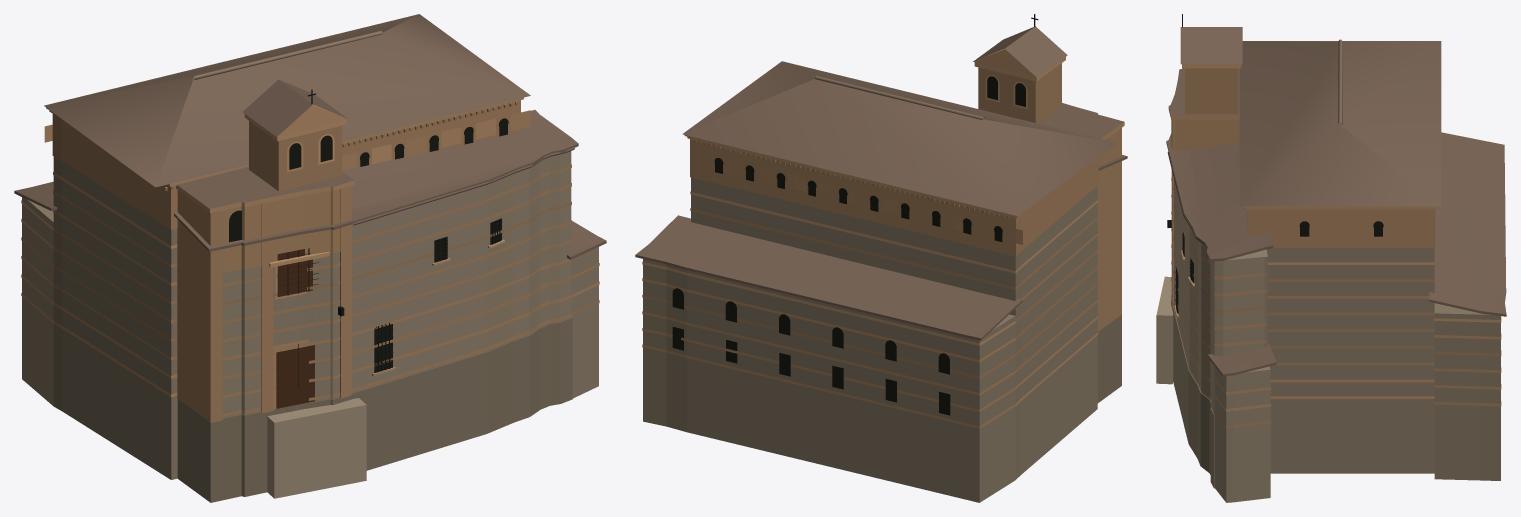
3 renders of one model, left to right at view 1: azimuth 30°, elevation 25°; view 2: azimuth 150°, elevation 25°; view 3: azimuth 270°, elevation 25°, orthographic. The views are drawn at different scales.
Visible parts, largest first — view 1: sinagoga_del_transito; view 2: sinagoga_del_transito; view 3: sinagoga_del_transito.
Part boxes in pixels (x1=…): sinagoga_del_transito: x1=14, y1=14, x2=606, y2=502; sinagoga_del_transito: x1=635, y1=14, x2=1127, y2=502; sinagoga_del_transito: x1=1156, y1=14, x2=1506, y2=502.
Bounding box in the file's own units: 31.32 × 26.3 × 23.71.
